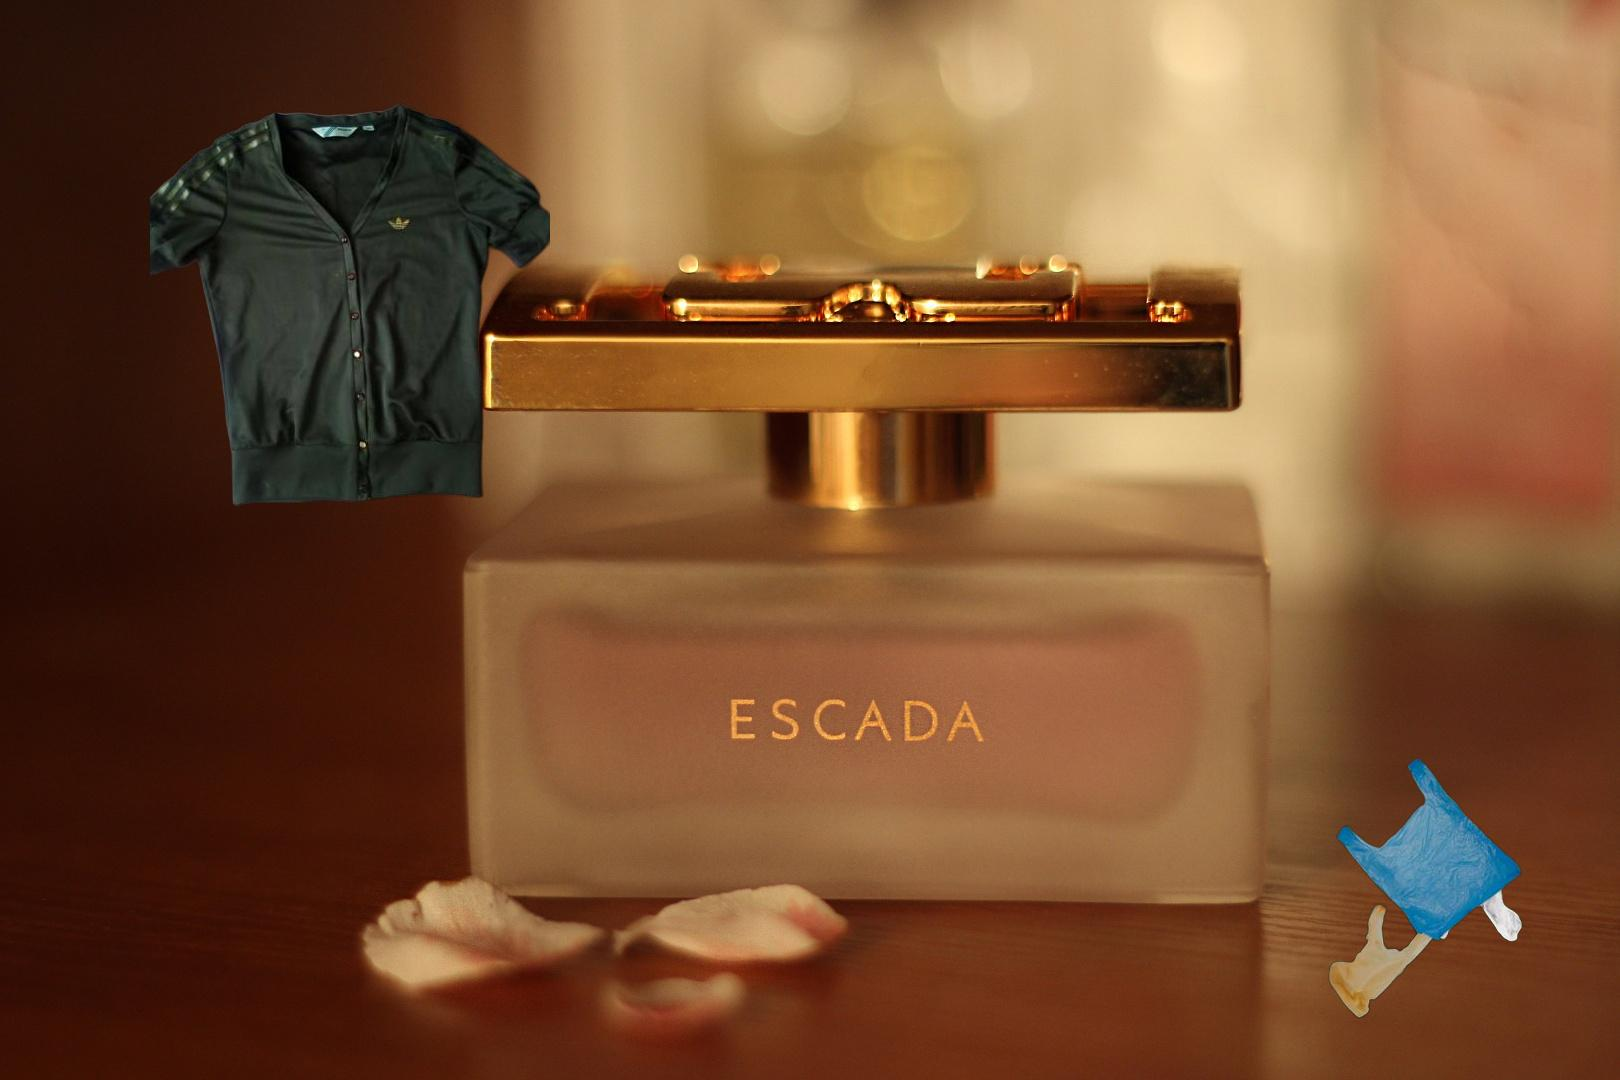clothes: (149, 99, 550, 510)
plastic-bag: (1326, 757, 1525, 1023)
